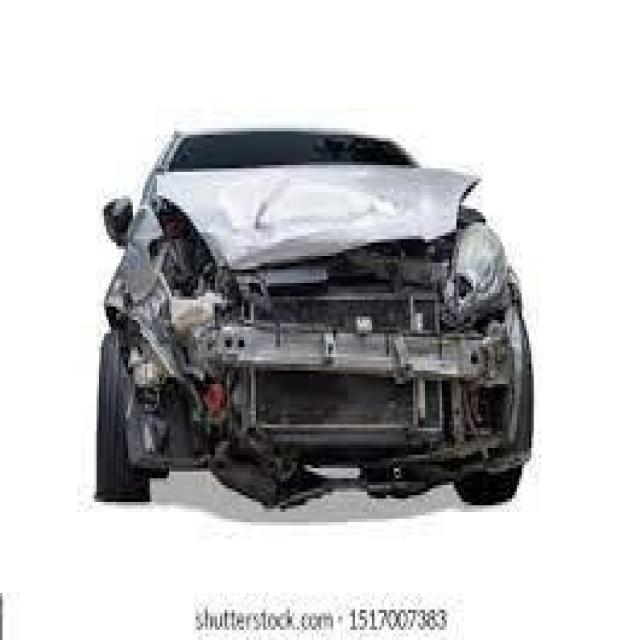damaged: (118, 188, 534, 502)
